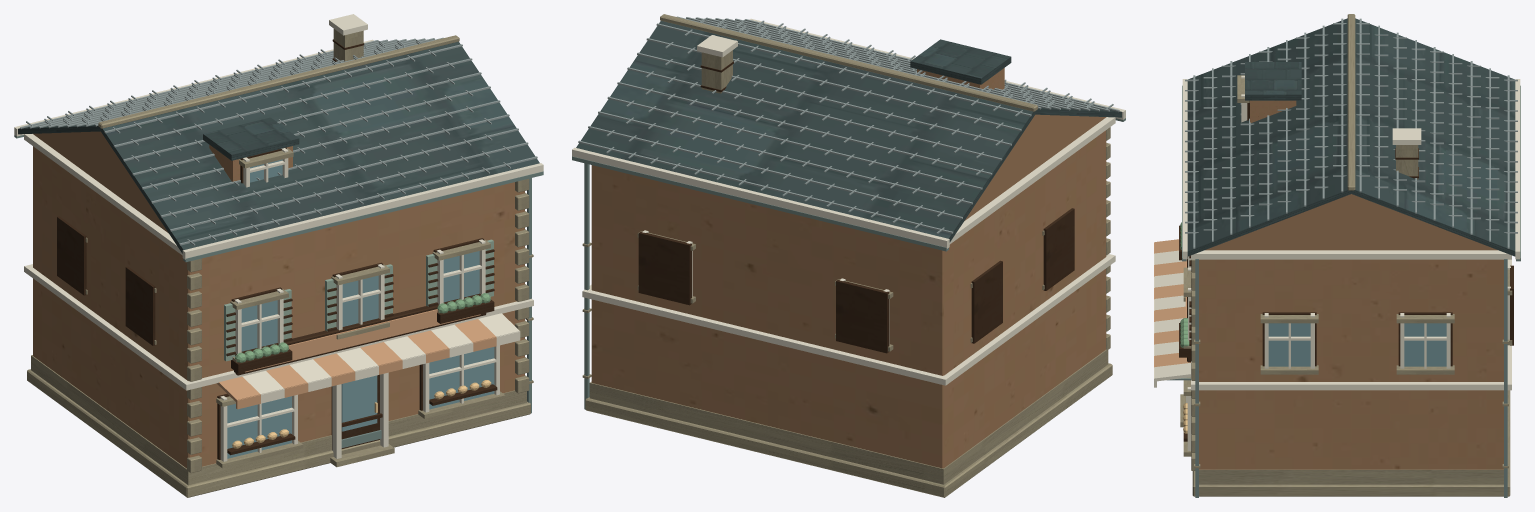
The model's file is north_bakery.glb.
The picture shows the model from 3 angles, left to right: view 1: azimuth 30°, elevation 25°; view 2: azimuth 150°, elevation 25°; view 3: azimuth 270°, elevation 25°; orthographic projection. The views are drawn at different scales.
Parts seen in each view (by area): view 1: north_bakery / north_bakery painted plaster, north_bakery / slate roof, north_bakery / limestone, north_bakery / ivory joinery, north_bakery / slate tile edge, north_bakery / oiled walnut, north_bakery / blue grey opaque glass, north_bakery / ochre canopy, north_bakery / aged dark bronze, north_bakery / sage canopy, north_bakery / window box leaves, north_bakery / bread and brass; view 2: north_bakery / north_bakery painted plaster, north_bakery / slate roof, north_bakery / limestone, north_bakery / slate tile edge, north_bakery / ivory joinery, north_bakery / oiled walnut, north_bakery / aged dark bronze; view 3: north_bakery / north_bakery painted plaster, north_bakery / slate roof, north_bakery / limestone, north_bakery / slate tile edge, north_bakery / ivory joinery, north_bakery / blue grey opaque glass, north_bakery / aged dark bronze, north_bakery / ochre canopy, north_bakery / oiled walnut.
Boxes of the visible parts, x1,y1,x2,y2 form: north_bakery / north_bakery painted plaster: (33,131,524,468); north_bakery / slate roof: (18,41,539,253); north_bakery / limestone: (27,29,533,497); north_bakery / ivory joinery: (14,14,543,461); north_bakery / slate tile edge: (20,37,537,245); north_bakery / oiled walnut: (57,39,497,459); north_bakery / blue grey opaque glass: (227,159,494,458); north_bakery / ochre canopy: (217,309,496,409); north_bakery / aged dark bronze: (14,135,543,447); north_bakery / sage canopy: (224,239,493,361); north_bakery / window box leaves: (235,293,490,362); north_bakery / bread and brass: (232,380,491,448); north_bakery / north_bakery painted plaster: (591,68,1106,468); north_bakery / slate roof: (576,21,1121,242); north_bakery / limestone: (582,14,1112,497); north_bakery / slate tile edge: (578,16,1119,233); north_bakery / ivory joinery: (572,18,1125,385); north_bakery / oiled walnut: (638,61,1074,353); north_bakery / aged dark bronze: (572,118,1125,409); north_bakery / north_bakery painted plaster: (1199,100,1503,469); north_bakery / slate roof: (1187,18,1515,256); north_bakery / limestone: (1180,14,1512,496); north_bakery / slate tile edge: (1185,18,1517,248); north_bakery / ivory joinery: (1154,75,1520,450); north_bakery / blue grey opaque glass: (1268,323,1446,366); north_bakery / aged dark bronze: (1167,85,1520,497); north_bakery / ochre canopy: (1154,239,1190,367); north_bakery / oiled walnut: (1179,101,1513,441).
Size of the model in its own units: 11.94 by 10.52 by 10.7.
Materials: 12 (4 with a texture image).
